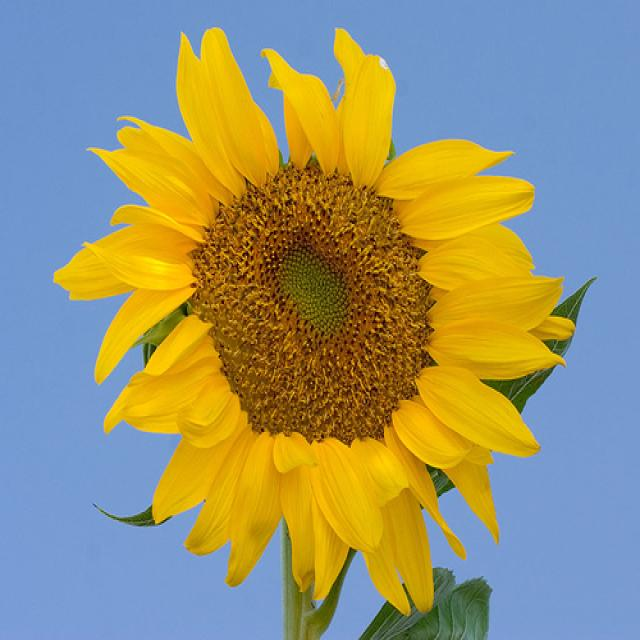sunflower: (60, 8, 572, 627)
